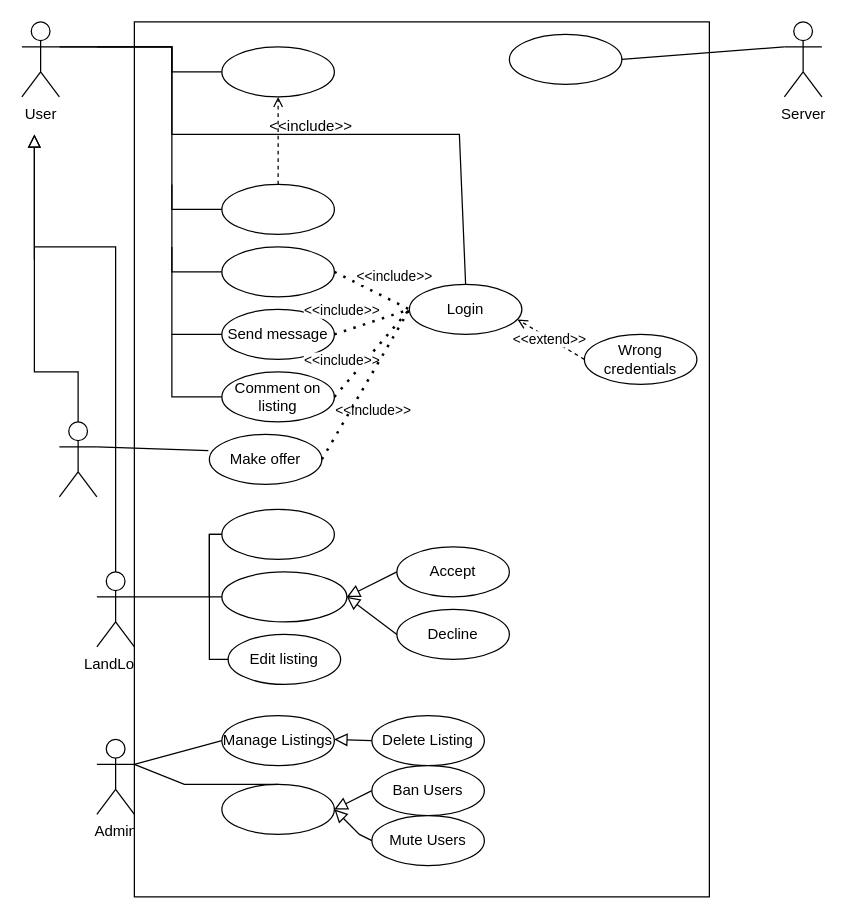
Some shapes in this 846 by 919 pixel diagram are drawn without their labels. Here are the shapes that lost their labels. From the top down, the centre of each, then its label:
the point at 277,71: See listings
the point at 565,58: Provide Database
the point at 277,208: Search for listings
the point at 277,271: See messages
the point at 77,459: Renter/Buyer
the point at 277,533: Create listing
the point at 284,596: Respond to an offer
the point at 277,808: Manage users
